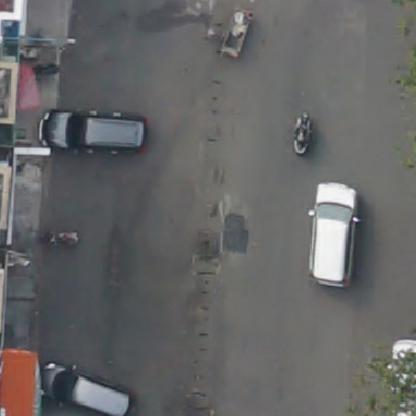Car: (38, 361, 138, 415), (38, 112, 150, 160), (310, 184, 360, 289)
Motorcycle: (35, 226, 81, 250), (291, 112, 314, 155)
